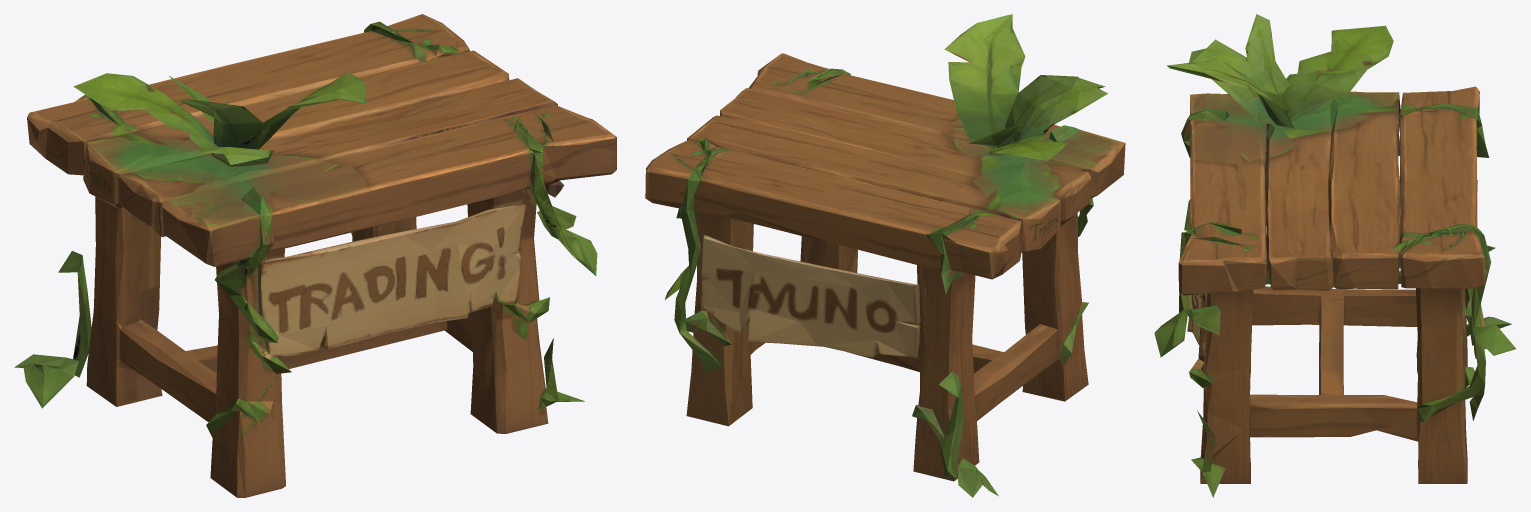
The model's file is Trading_Post_0617180210_texture.fbx.
3 renders of one model, left to right at view 1: azimuth 30°, elevation 25°; view 2: azimuth 150°, elevation 25°; view 3: azimuth 270°, elevation 25°, orthographic. The views are drawn at different scales.
Visible parts, largest first — view 1: temp; view 2: temp; view 3: temp.
Part boxes in pixels (x1=…): temp: x1=14, y1=14, x2=616, y2=497; temp: x1=645, y1=14, x2=1125, y2=497; temp: x1=1154, y1=14, x2=1516, y2=497.
Size of the model in its own units: 193 by 170 by 164.
Materials: 1 (1 with a texture image).
